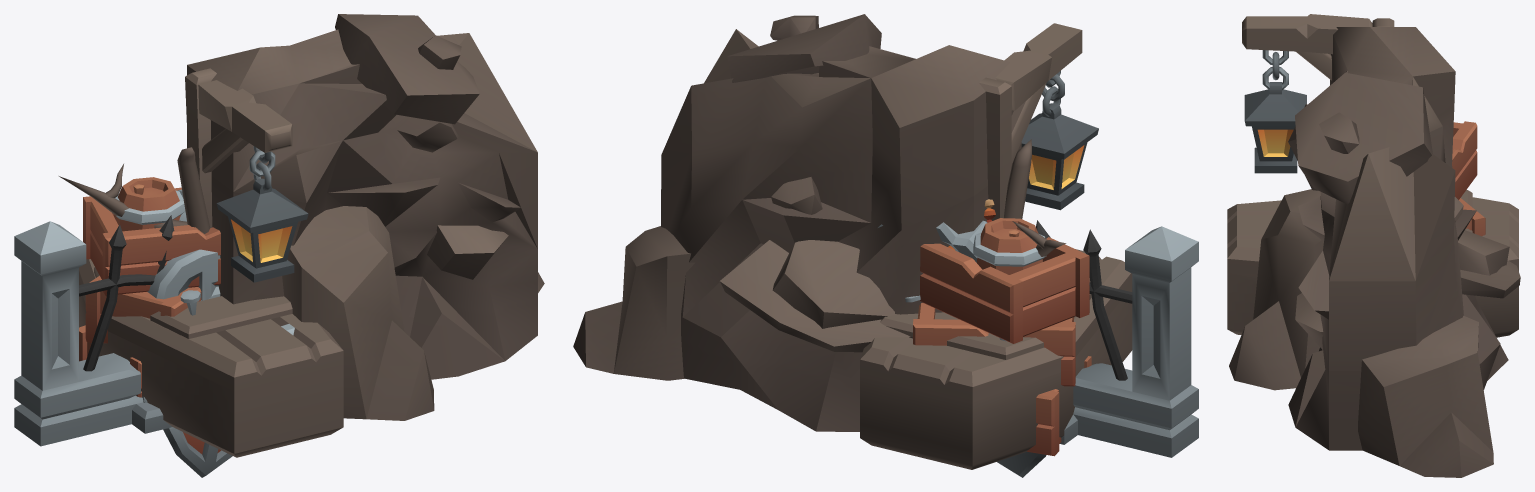
Rendered from charneca.glb.
The picture shows the model from 3 angles, left to right: view 1: azimuth 30°, elevation 25°; view 2: azimuth 150°, elevation 25°; view 3: azimuth 270°, elevation 25°; orthographic projection. The views are drawn at different scales.
Parts seen in each view (by area): view 1: rubble_half, fence_broken, coffin_lid, coffin, crates_stacked, post_lantern, post_lantern_lantern, tree_dead_small, gravestone, sword_shield_broken, grave_A_destroyed; view 2: rubble_half, fence_broken, crates_stacked, coffin, coffin_lid, post_lantern, post_lantern_lantern, tree_dead_small, grave_A_destroyed, sword_shield_broken; view 3: rubble_half, post_lantern_lantern, coffin_lid, post_lantern, coffin, crates_stacked.
Part boxes in pixels (<box>): rubble_half: <box>187,14,544,420</box>; fence_broken: <box>14,215,174,446</box>; coffin_lid: <box>79,259,343,391</box>; coffin: <box>79,295,343,457</box>; crates_stacked: <box>79,177,294,397</box>; post_lantern: <box>185,68,292,227</box>; post_lantern_lantern: <box>216,146,308,282</box>; tree_dead_small: <box>59,147,210,233</box>; gravestone: <box>147,249,220,300</box>; sword_shield_broken: <box>163,427,232,477</box>; grave_A_destroyed: <box>132,189,186,433</box>; rubble_half: <box>573,14,1021,431</box>; fence_broken: <box>1036,220,1198,457</box>; crates_stacked: <box>913,199,1091,456</box>; coffin: <box>860,287,1132,469</box>; coffin_lid: <box>860,249,1132,401</box>; post_lantern: <box>979,23,1082,220</box>; post_lantern_lantern: <box>1021,71,1098,210</box>; tree_dead_small: <box>1004,139,1066,256</box>; grave_A_destroyed: <box>878,220,1077,444</box>; sword_shield_broken: <box>997,452,1046,477</box>; rubble_half: <box>1229,27,1520,477</box>; post_lantern_lantern: <box>1244,50,1306,173</box>; coffin_lid: <box>1227,189,1518,274</box>; post_lantern: <box>1242,14,1394,80</box>; coffin: <box>1227,272,1518,337</box>; crates_stacked: <box>1452,121,1485,236</box>.
Size of the model in its own units: 6 by 4.29 by 3.02.
Materials: 2 (2 with a texture image).
